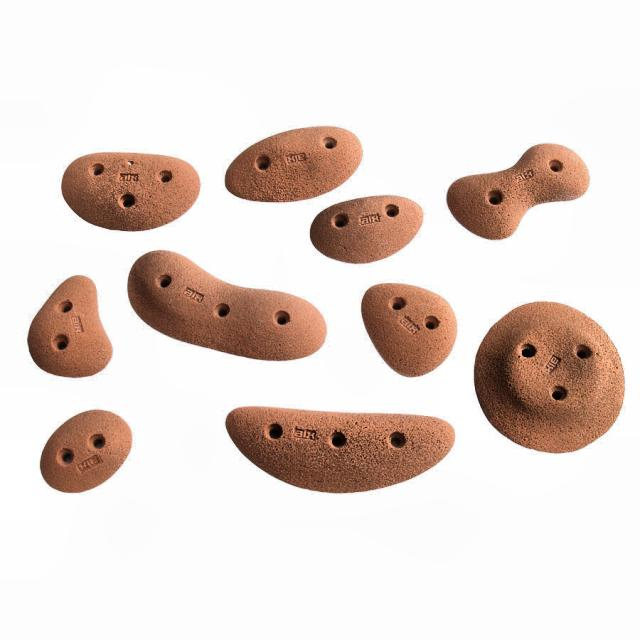Hold: (471, 298, 622, 456), (125, 242, 328, 358), (214, 401, 462, 495), (448, 144, 592, 243), (219, 123, 361, 209), (364, 272, 470, 378), (67, 148, 195, 230), (26, 274, 111, 376), (36, 416, 136, 495), (309, 196, 425, 264)
